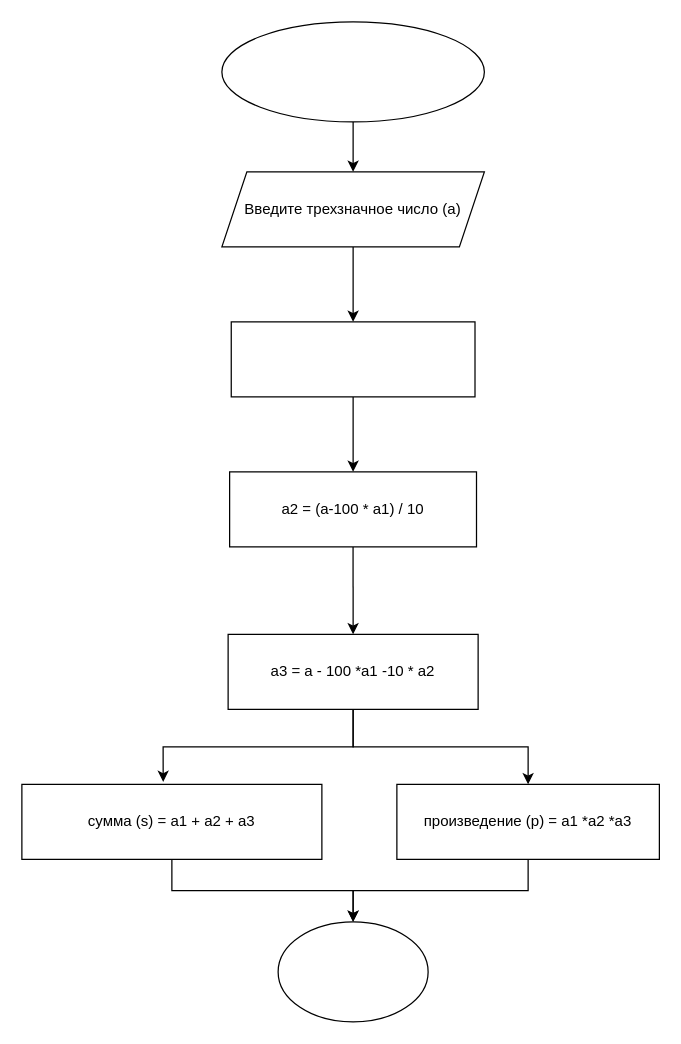
Some shapes in this 681 by 1044 pixel diagram are drawn without their labels. Here are the shapes that lost their labels. From the top down, the centre of each, then its label:
(352,71): Начало
(352,359): a1 = a / 100
(352,971): конец
